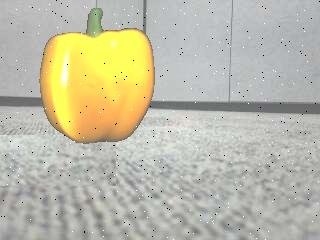Capsicum: (39, 7, 157, 146)
